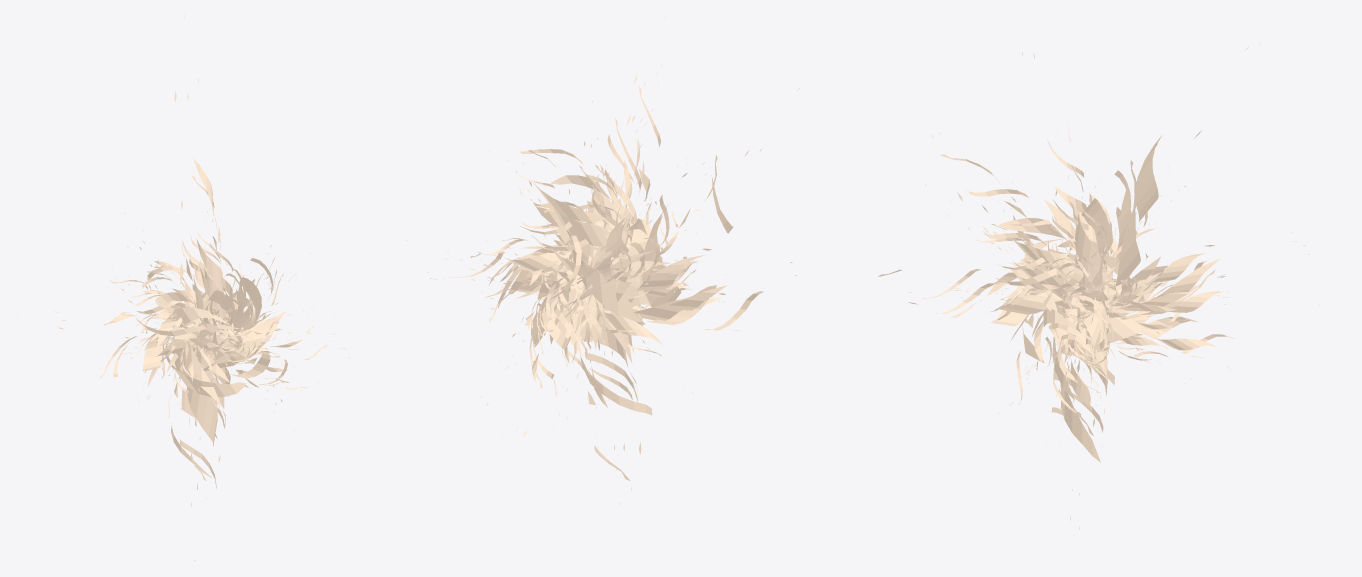
File: fireball.glb
The picture shows the model from 3 angles, left to right: view 1: azimuth 30°, elevation 25°; view 2: azimuth 150°, elevation 25°; view 3: azimuth 270°, elevation 25°; orthographic projection. The views are drawn at different scales.
Bounding box in the file's own units: 2.06 × 2.73 × 2.1.
